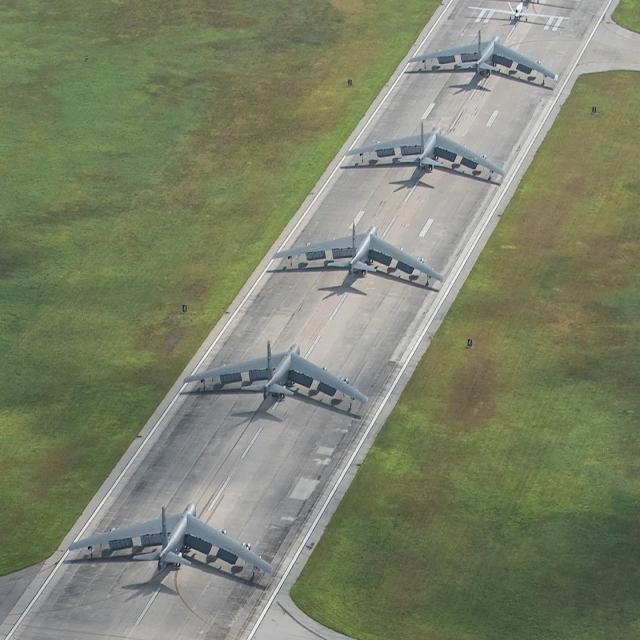MIL_Plane: (69, 483, 274, 558), (0, 338, 177, 406), (272, 218, 444, 283), (407, 27, 555, 85), (353, 119, 493, 180), (468, 2, 570, 22)
